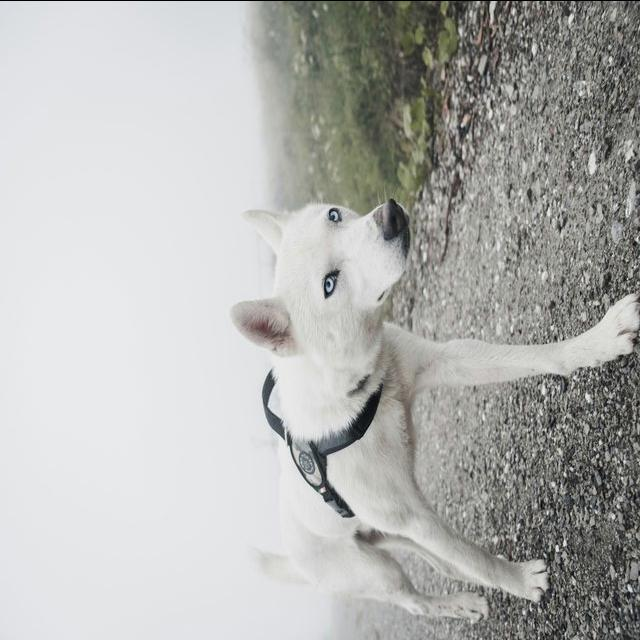husky: (228, 197, 639, 623)
